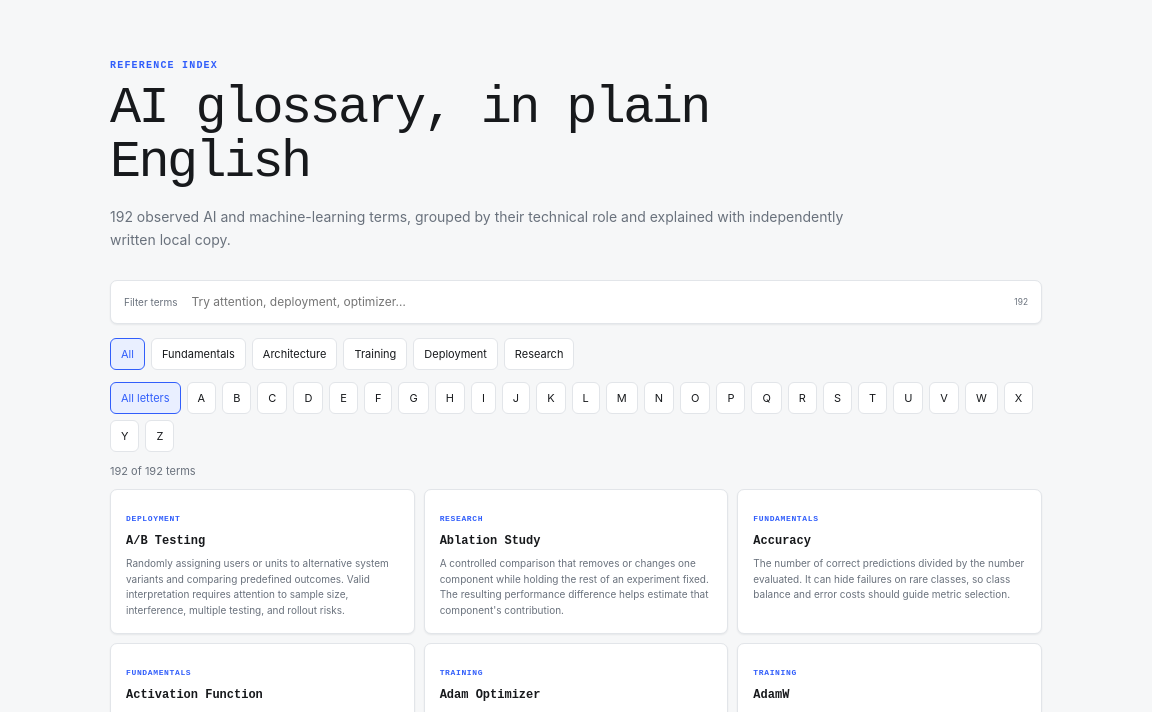
Test: combines category, initial letter, and definition search and can clear an empty result
Click the button "Training" at [375, 354], box [344,338,407,370]
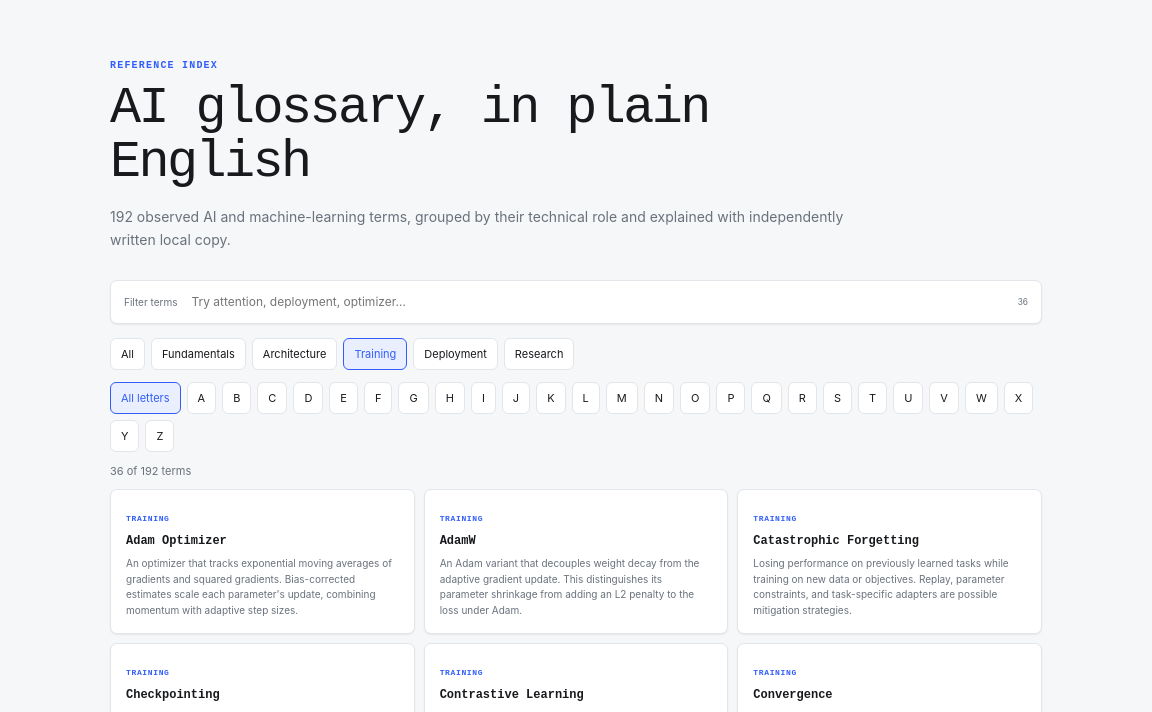
Click the button "A" at [201, 398], box [186,382,216,414]
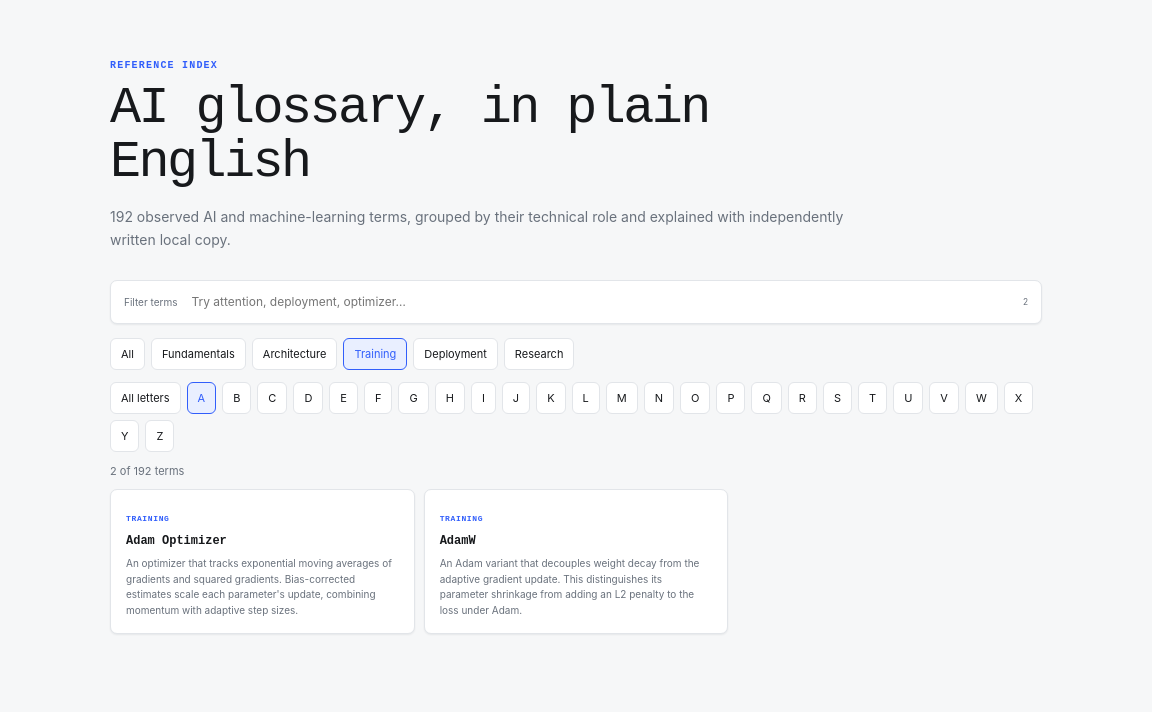
Expected: the heading "AdamW" is shown, [440,534,476,548]
Expected: the number of elements with test id "glossary-term" is 2, [110,489,415,634]; [424,489,728,634]
Type "decouples" into the search field at [600, 302], box [189,293,1011,310]
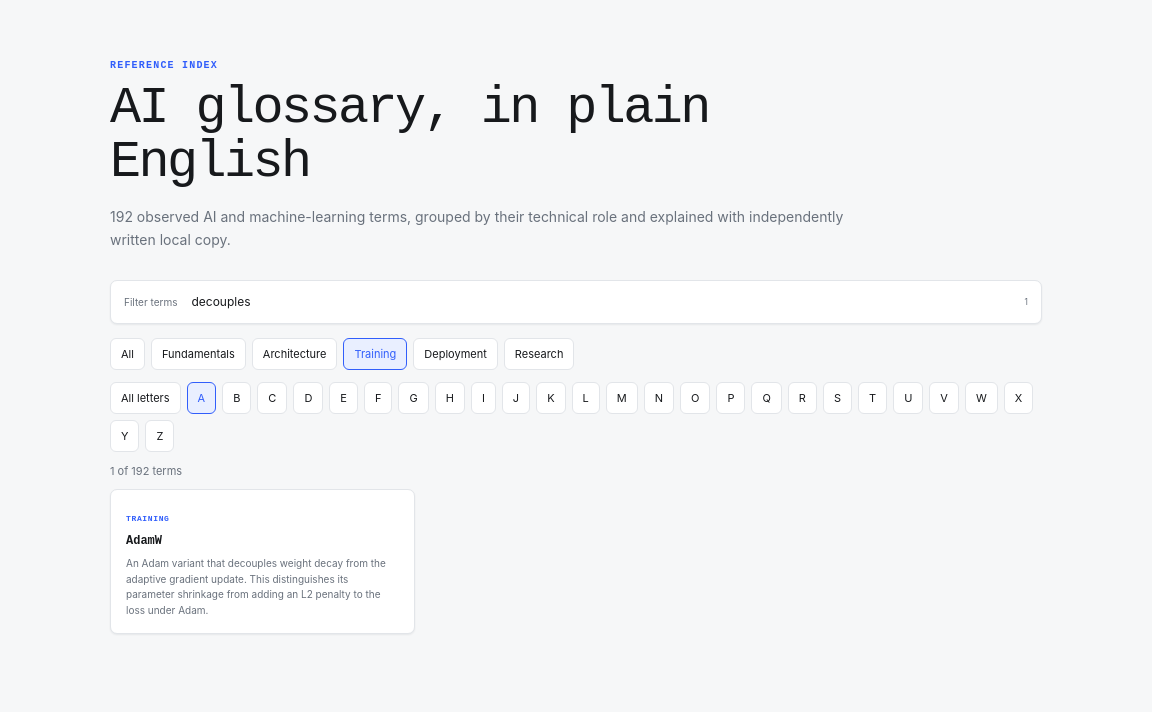
Expected: the number of elements with test id "glossary-term" is 1, [110,489,415,634]
Replace the text in the search field with "no-such-concept" at [601, 302], box [189,293,1013,310]
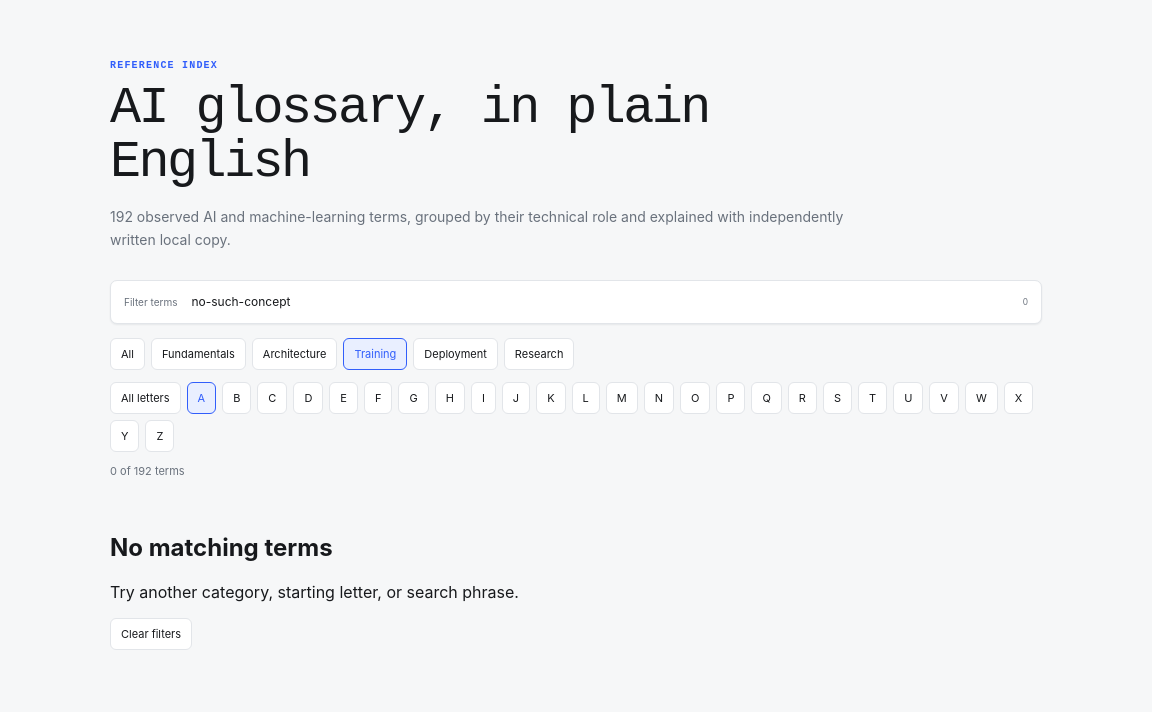
Expected: the heading "No matching terms" is shown, [110,533,333,562]
Click the button "Clear filters" at [151, 634], box [110,618,192,650]
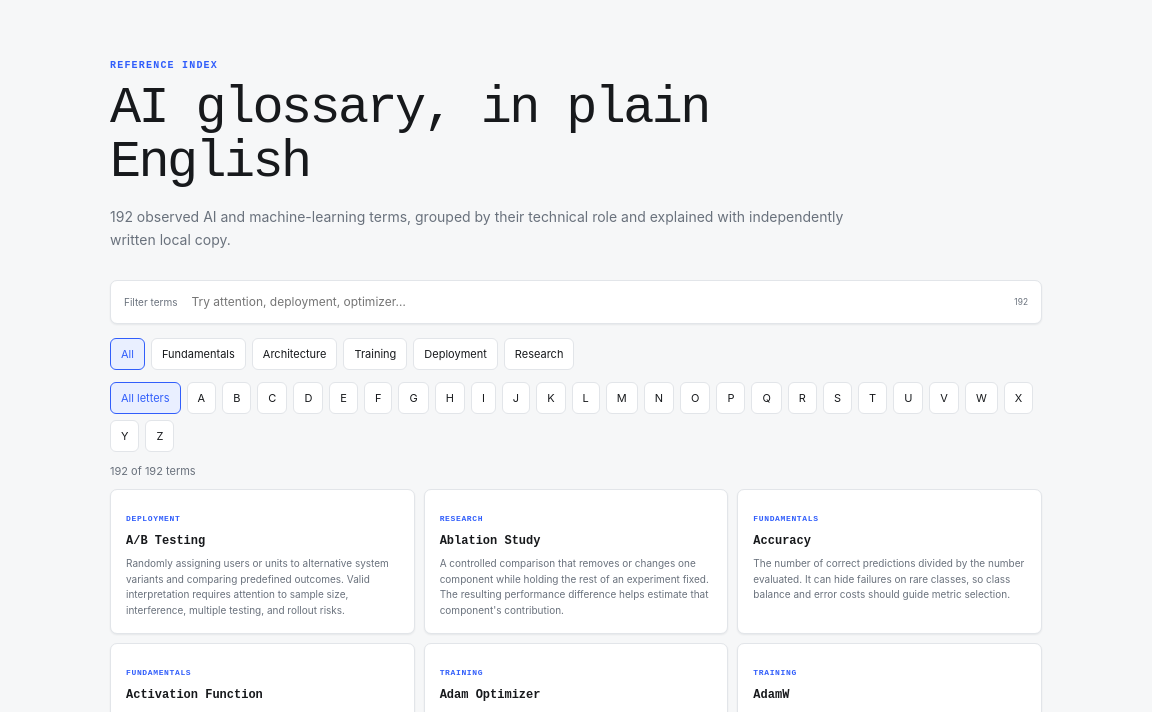
Expected: the number of elements with test id "glossary-term" is 192
